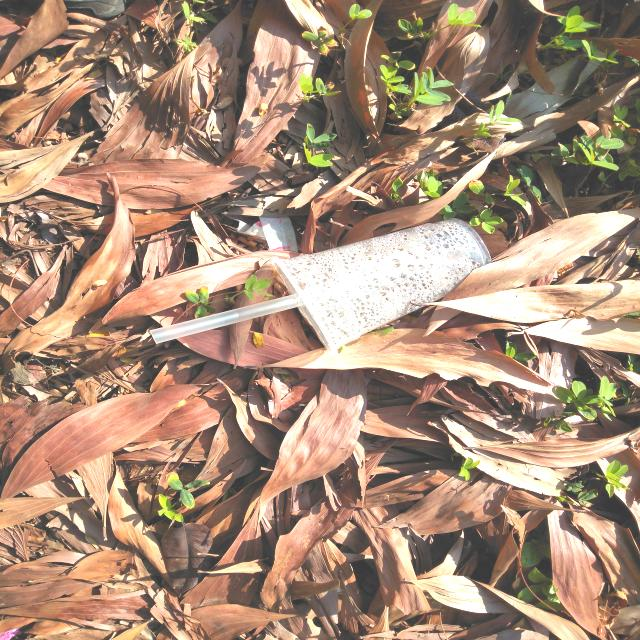Disposable plastic cup: (272, 218, 491, 355)
Other plastic: (225, 215, 298, 253)
Plastic straw: (150, 294, 301, 344)
